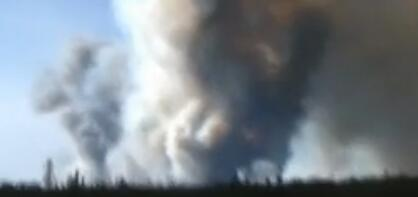yanwu: (27, 0, 418, 185)
